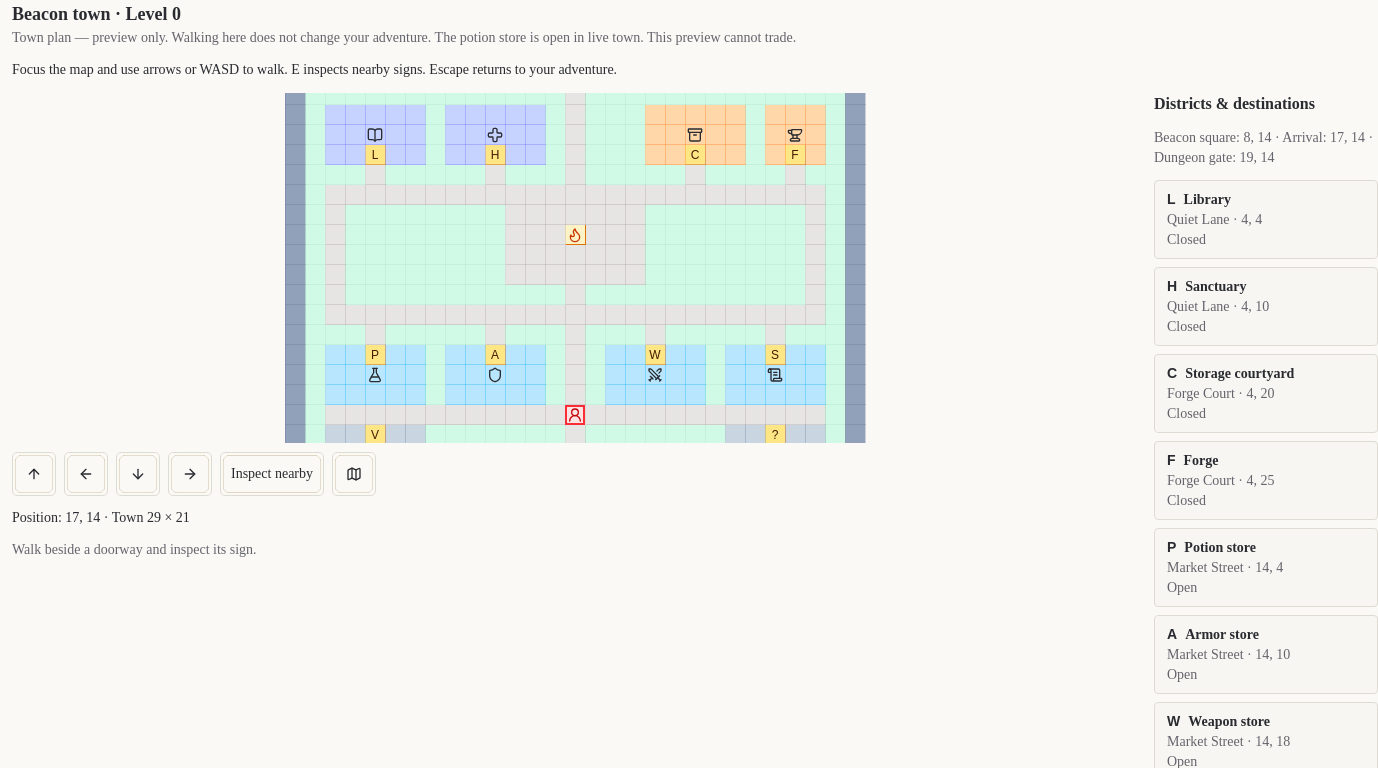
Test: supports focused keyboard walking, collision and closed-gate inspection
This screenshot has width=1378, height=768.
(page scrolled)
Click the element named "Town map preview".
click(575, 274)  # box [285,84,865,464]
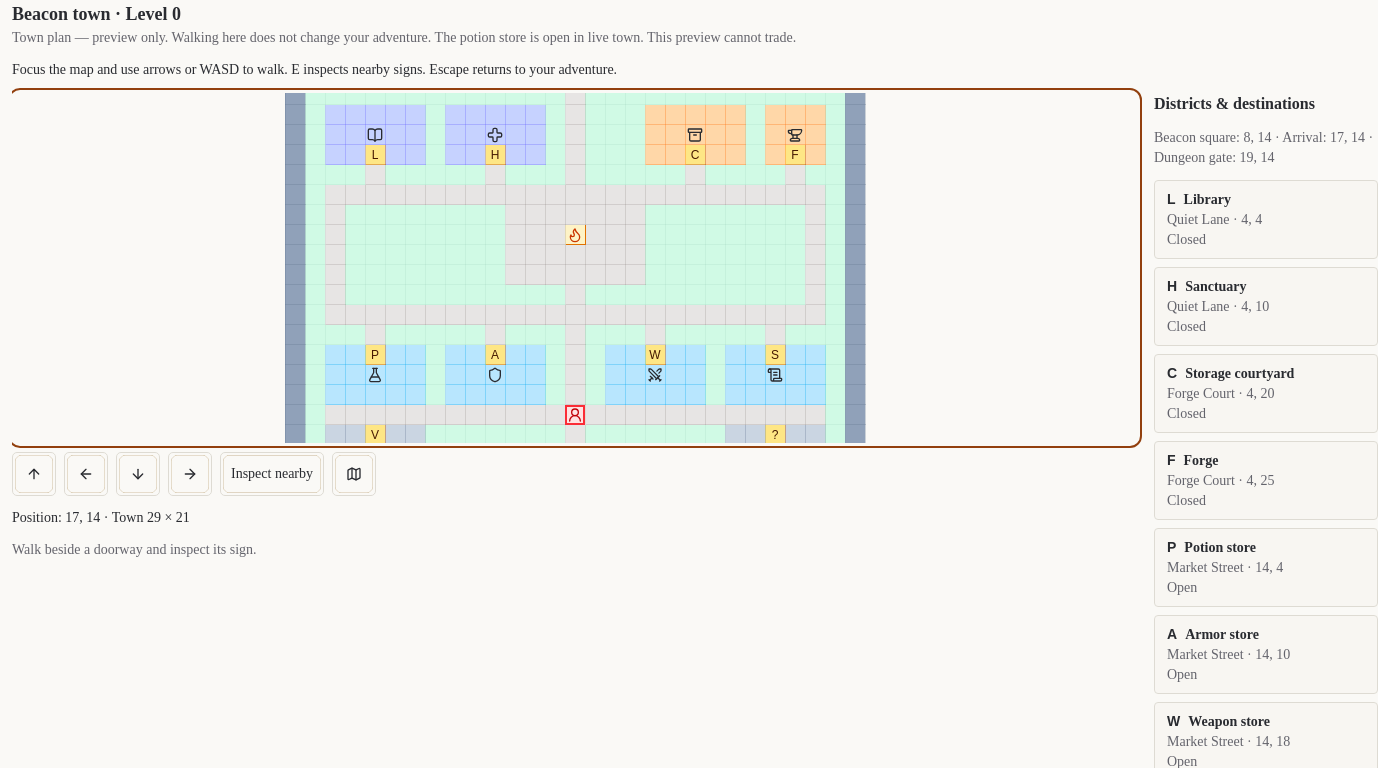
Type keys "ssse"
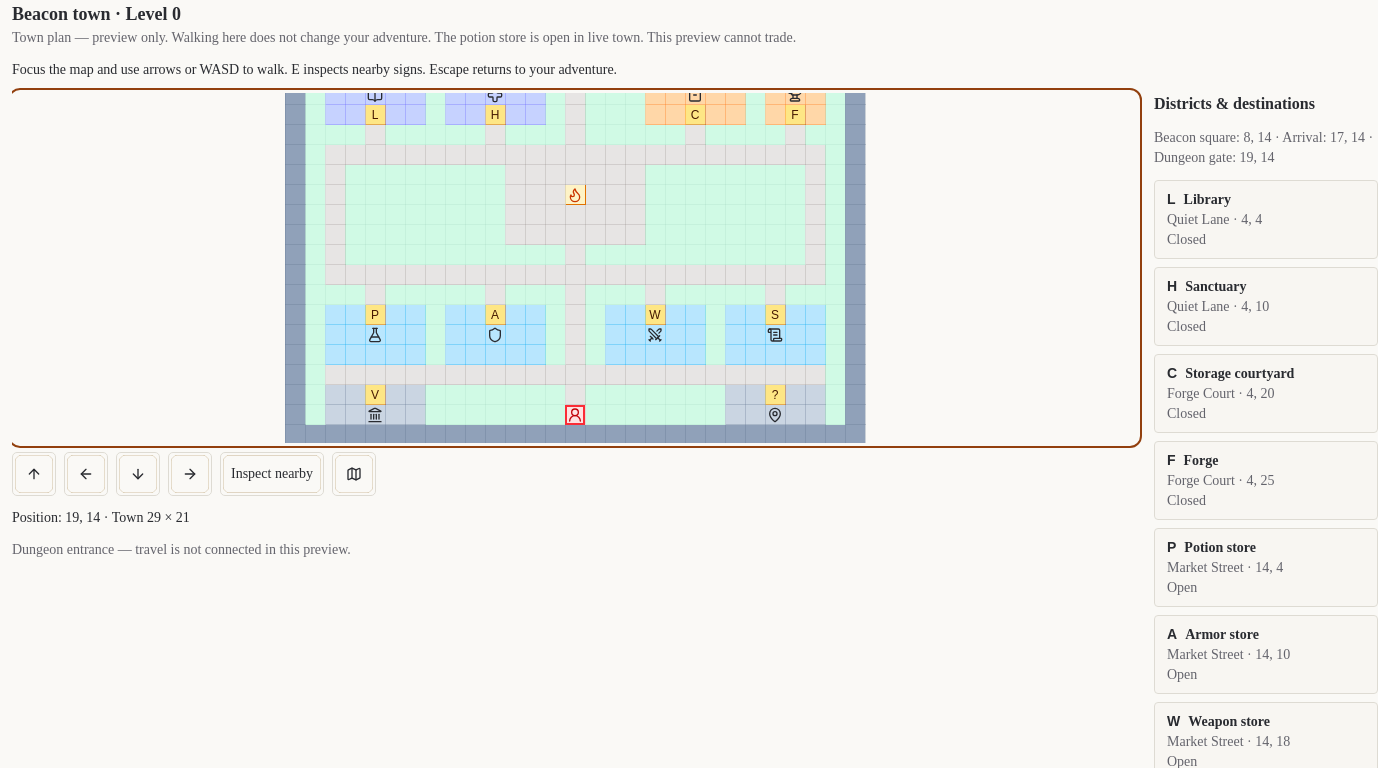
Expected: the text "Position: 19, 14 · Town 29 × 21" is shown, [12,510,190,525]
Expected: the message shows "not connected", [12,542,351,557]
Press ArrowUp in the element named "Town map preview", box [285,84,865,444]
Expected: the text "Position: 19, 14 · Town 29 × 21" is shown, [12,510,190,525]
Press Arrowup
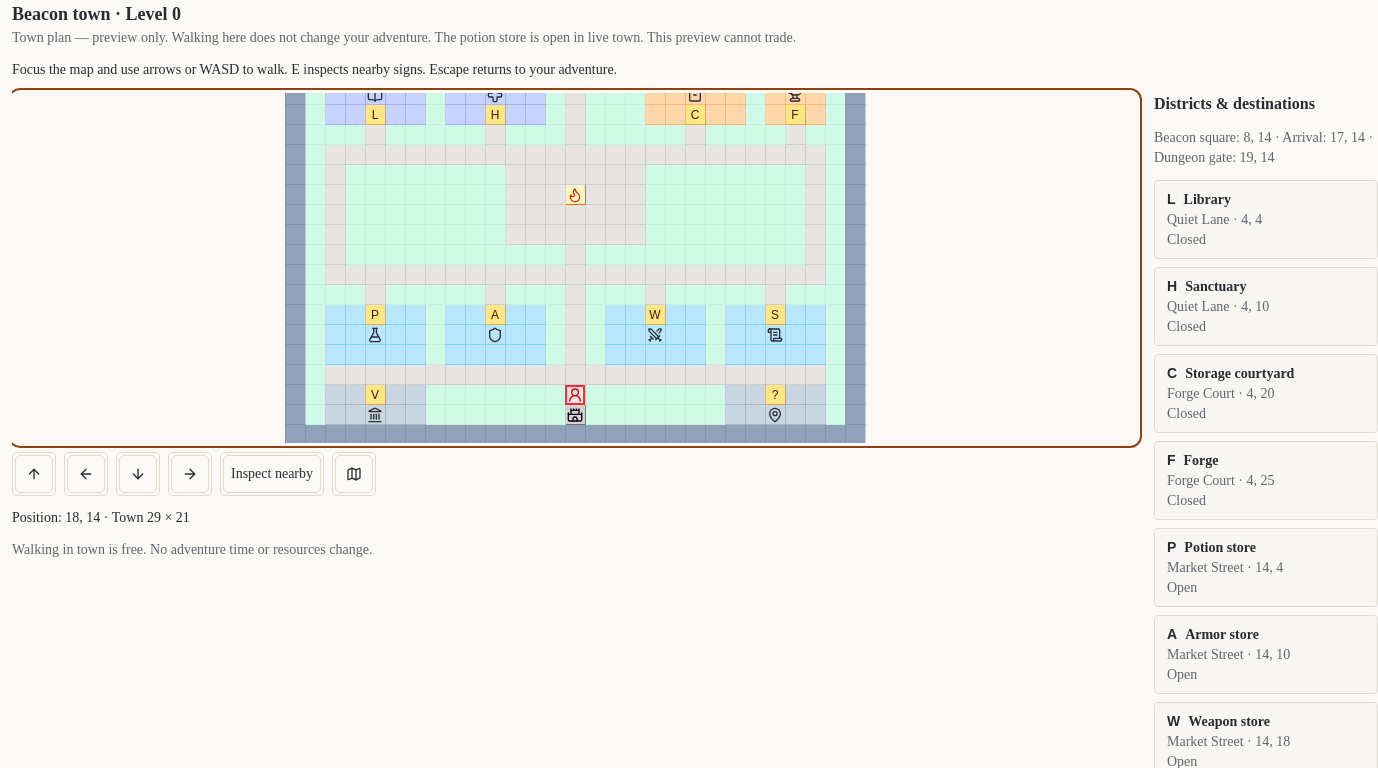
Expected: the text "Potion store" is shown, [1184,540,1256,555]
Expected: the text "Position: 18, 14 · Town 29 × 21" is shown, [12,510,190,525]
